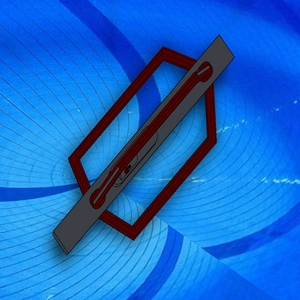submarine: (42, 34, 250, 256)
